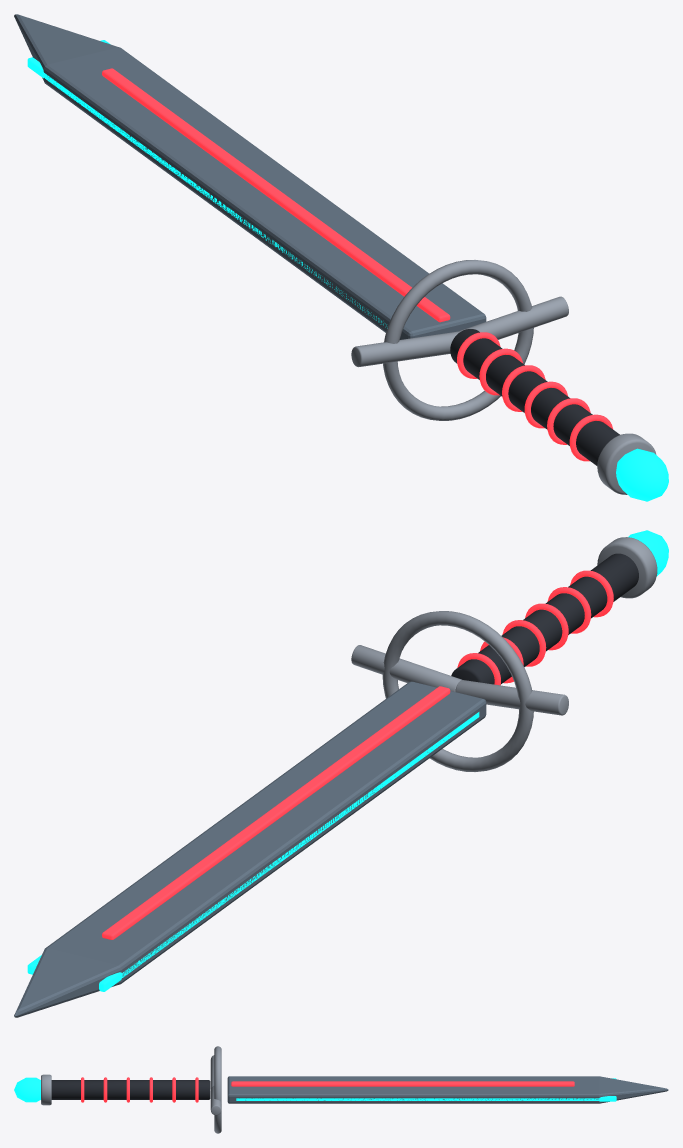
Rendered from cyber_katana.glb.
The picture shows the model from 3 angles, top to bottom: view 1: azimuth 30°, elevation 25°; view 2: azimuth 150°, elevation 25°; view 3: azimuth 270°, elevation 25°; orthographic projection. The views are drawn at different scales.
Parts seen in each view (by area): view 1: Blade_TaperedCore, Handle_Core, Guard_EnergyRing, Blade_Fuller, Guard_LeftQuillon, Pommel_Reactor, Guard_RightQuillon, Blade_LeftPlasmaEdge, Pommel_Collar; view 2: Blade_TaperedCore, Handle_Core, Guard_EnergyRing, Blade_Fuller, Blade_LeftPlasmaEdge, Guard_LeftQuillon, Guard_RightQuillon, Pommel_Collar, Pommel_Reactor; view 3: Blade_TaperedCore, Handle_Core, Blade_Fuller, Blade_RightPlasmaEdge, Guard_EnergyRing, Pommel_Reactor, Pommel_Collar, Guard_RightQuillon.
Boxes of the visible parts, x1,y1,x2,y2 form: Blade_TaperedCore: (14,14,486,339); Handle_Core: (450,329,619,465); Guard_EnergyRing: (383,260,533,420); Blade_Fuller: (102,68,450,322); Guard_LeftQuillon: (351,331,459,367); Pommel_Reactor: (616,448,668,501); Guard_RightQuillon: (458,296,568,339); Blade_LeftPlasmaEdge: (27,57,387,328); Pommel_Collar: (597,433,656,494); Blade_TaperedCore: (14,681,486,1017); Handle_Core: (451,553,638,684); Guard_EnergyRing: (382,611,533,771); Blade_Fuller: (102,686,450,939); Blade_LeftPlasmaEdge: (99,712,479,991); Guard_LeftQuillon: (455,680,568,715); Guard_RightQuillon: (351,645,461,691); Pommel_Collar: (597,537,657,598); Pommel_Reactor: (628,530,668,576); Blade_TaperedCore: (227,1076,668,1103); Handle_Core: (51,1080,210,1099); Blade_Fuller: (231,1081,574,1086); Blade_RightPlasmaEdge: (236,1096,616,1101); Guard_EnergyRing: (214,1046,221,1133); Pommel_Reactor: (14,1077,40,1102); Pommel_Collar: (41,1074,51,1105); Guard_RightQuillon: (210,1086,221,1115).
Bounding box in the file's own units: 0.3222 × 0.23 × 1.72.
